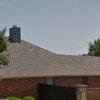Chimney: (5, 18, 32, 52)
